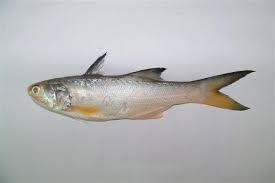Fourfinger Threadfish: (26, 51, 258, 124)
